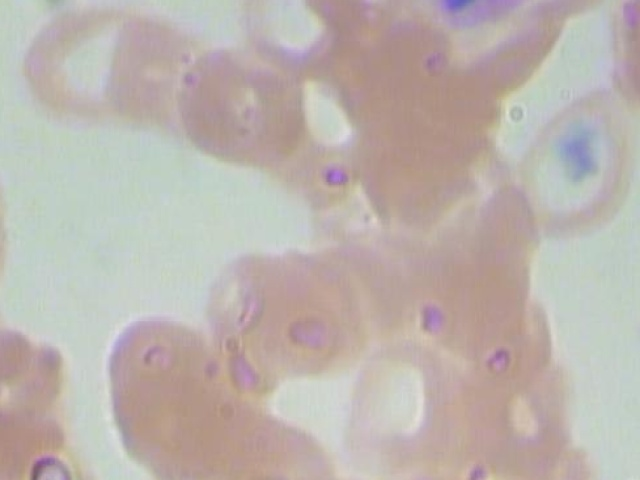RBC: (200, 227, 367, 384), (97, 305, 239, 479), (167, 23, 312, 181), (332, 323, 463, 480), (12, 0, 156, 138), (453, 329, 583, 480), (519, 82, 640, 238), (233, 0, 370, 80), (0, 404, 117, 480), (603, 0, 640, 114)
WBC: (390, 0, 565, 37)
